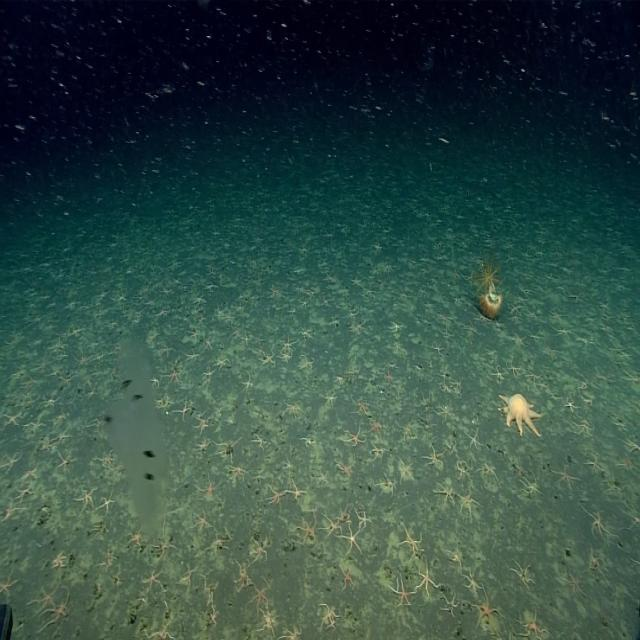brittle-stars: (582, 508, 612, 542), (475, 590, 501, 628), (518, 611, 548, 640), (247, 581, 270, 616), (49, 591, 71, 626), (417, 562, 438, 598), (391, 576, 414, 608), (401, 526, 424, 556), (560, 570, 586, 596), (84, 518, 112, 542), (510, 560, 533, 588), (298, 513, 318, 545), (584, 546, 604, 578), (553, 463, 577, 489), (0, 566, 19, 598), (321, 604, 342, 632), (336, 501, 358, 527), (343, 525, 362, 554), (142, 566, 164, 591), (199, 476, 220, 502), (260, 610, 280, 637), (155, 533, 176, 558), (458, 488, 478, 514), (622, 506, 640, 534), (152, 619, 176, 640), (75, 487, 96, 510), (436, 482, 456, 506), (34, 586, 54, 610), (250, 536, 268, 562), (345, 425, 366, 447), (214, 441, 237, 461), (424, 444, 443, 468), (1, 498, 20, 522), (236, 560, 252, 588), (57, 449, 77, 471), (618, 454, 638, 476), (604, 476, 624, 498), (91, 282, 113, 302), (321, 514, 340, 537), (210, 533, 228, 557), (463, 568, 481, 592), (397, 457, 414, 482), (1, 450, 21, 471), (608, 415, 628, 436), (109, 566, 125, 592), (379, 474, 397, 497), (128, 529, 146, 552), (337, 457, 355, 479), (194, 510, 211, 533), (99, 491, 116, 514), (443, 592, 460, 615), (59, 371, 76, 394), (203, 580, 219, 604), (437, 404, 456, 424), (19, 465, 39, 484), (15, 483, 35, 502), (18, 373, 37, 393), (96, 448, 114, 469), (369, 415, 386, 437), (341, 564, 355, 590), (612, 626, 638, 640), (268, 485, 286, 505), (522, 475, 540, 495), (156, 281, 174, 301), (585, 454, 602, 475), (104, 317, 120, 339), (518, 282, 540, 298), (574, 369, 589, 392), (574, 419, 593, 437), (81, 334, 100, 352), (179, 565, 195, 586), (102, 548, 116, 572), (346, 359, 362, 380), (230, 464, 248, 482), (287, 482, 305, 500), (395, 285, 413, 303), (623, 438, 640, 457), (369, 237, 386, 256), (465, 430, 481, 450), (44, 364, 64, 380), (581, 391, 597, 411), (355, 510, 370, 531), (504, 315, 526, 329), (526, 304, 540, 326), (166, 367, 183, 385), (3, 411, 21, 428), (28, 417, 46, 434), (421, 295, 439, 312), (575, 334, 594, 350), (282, 625, 302, 640), (449, 548, 464, 568), (206, 604, 219, 627), (285, 402, 302, 419), (508, 358, 524, 376), (482, 460, 498, 478), (252, 434, 268, 452), (54, 410, 70, 428), (322, 390, 338, 407), (352, 398, 368, 415), (91, 415, 107, 432), (196, 415, 211, 433), (54, 552, 68, 571), (553, 324, 572, 338), (400, 419, 412, 441), (512, 333, 528, 349), (42, 392, 58, 408), (624, 372, 640, 388), (269, 282, 281, 303), (526, 330, 542, 345), (196, 438, 211, 454), (280, 337, 296, 352), (463, 320, 478, 336), (57, 429, 72, 445), (544, 344, 560, 359), (52, 339, 68, 354), (76, 352, 90, 369), (446, 438, 459, 456), (419, 391, 432, 409), (506, 300, 524, 313), (564, 398, 578, 414), (370, 441, 384, 457), (301, 355, 315, 371), (70, 322, 84, 338), (40, 439, 54, 455), (136, 592, 150, 608), (240, 371, 251, 391), (262, 352, 276, 367), (527, 371, 542, 385), (301, 436, 316, 450), (332, 372, 346, 387), (203, 336, 216, 352), (389, 320, 405, 333), (160, 344, 176, 357), (492, 364, 505, 380), (177, 404, 190, 420), (214, 304, 227, 320), (457, 461, 469, 478), (567, 290, 584, 302), (384, 258, 396, 275), (385, 366, 396, 384), (279, 350, 293, 364), (215, 356, 229, 370), (431, 343, 445, 357), (24, 394, 38, 408), (184, 349, 199, 362), (549, 390, 562, 405), (632, 553, 640, 577), (316, 469, 328, 485), (214, 403, 226, 419), (352, 320, 366, 333), (598, 300, 611, 314), (513, 464, 525, 479), (439, 313, 454, 325), (111, 462, 123, 477), (192, 292, 205, 305), (363, 285, 376, 298), (442, 327, 455, 340), (66, 296, 79, 309), (205, 281, 219, 293), (551, 310, 565, 322), (441, 380, 453, 394), (112, 342, 124, 356), (160, 400, 172, 414), (393, 341, 405, 355), (86, 384, 98, 398), (31, 314, 45, 326), (203, 365, 214, 380), (148, 376, 160, 389), (253, 334, 265, 347), (235, 302, 247, 315), (188, 328, 200, 341), (157, 308, 170, 320), (301, 325, 313, 338), (490, 632, 509, 640), (351, 275, 363, 287), (306, 287, 318, 299), (206, 266, 218, 278), (321, 294, 332, 307), (378, 277, 389, 290), (232, 325, 242, 339), (452, 378, 463, 390), (300, 298, 311, 310), (144, 296, 156, 307), (116, 291, 127, 303), (347, 308, 358, 320), (133, 310, 145, 321), (284, 458, 294, 471), (538, 379, 548, 392), (289, 304, 297, 320), (256, 346, 267, 357), (292, 283, 302, 294), (190, 306, 200, 317), (240, 335, 248, 347)
